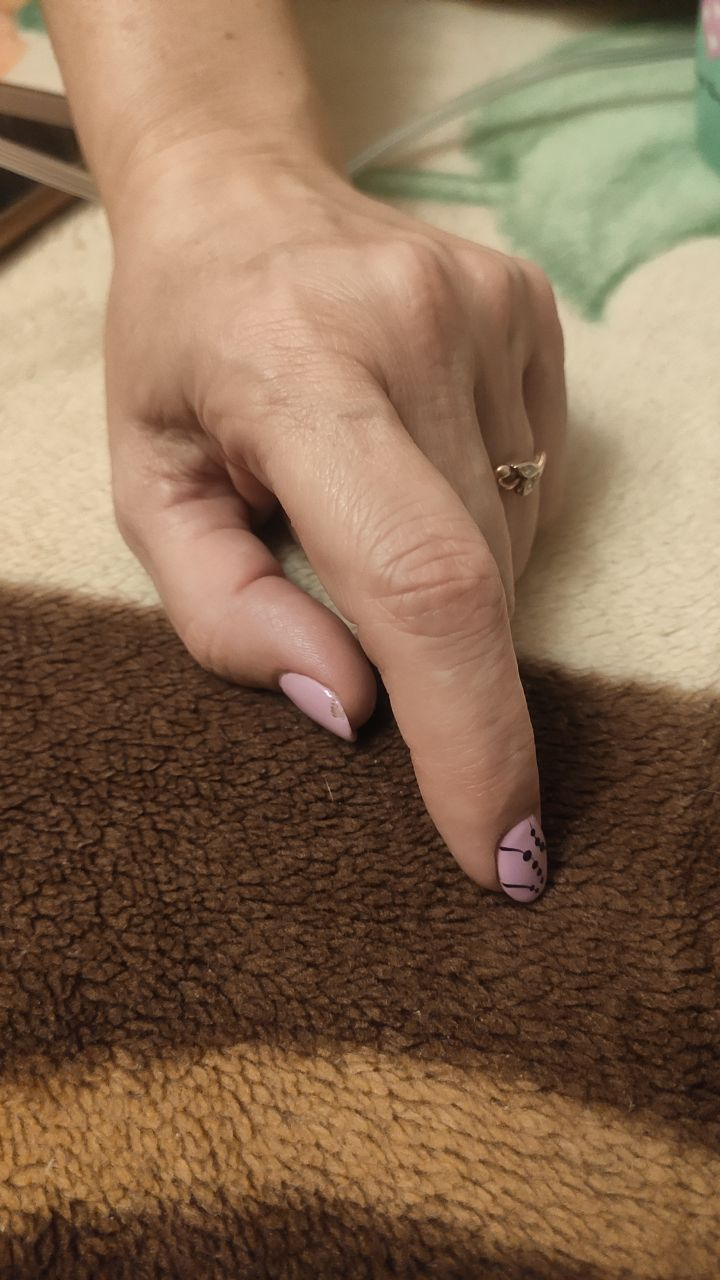finger: (427, 772, 553, 902)
